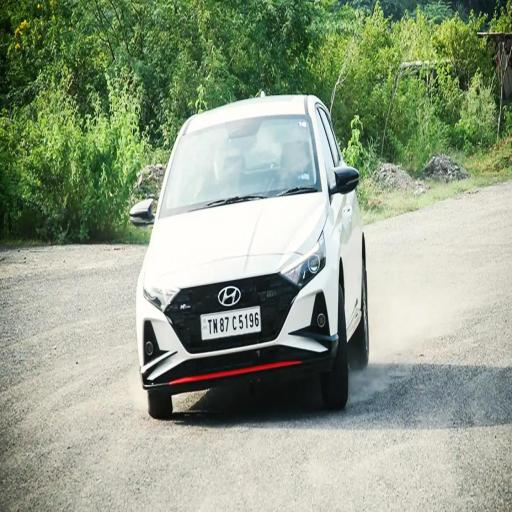License: (197, 310, 265, 336)
